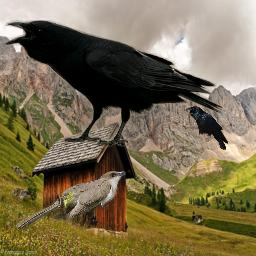Crow: (5, 20, 223, 148), (185, 106, 228, 150)
Cuckoo: (15, 170, 126, 230)
